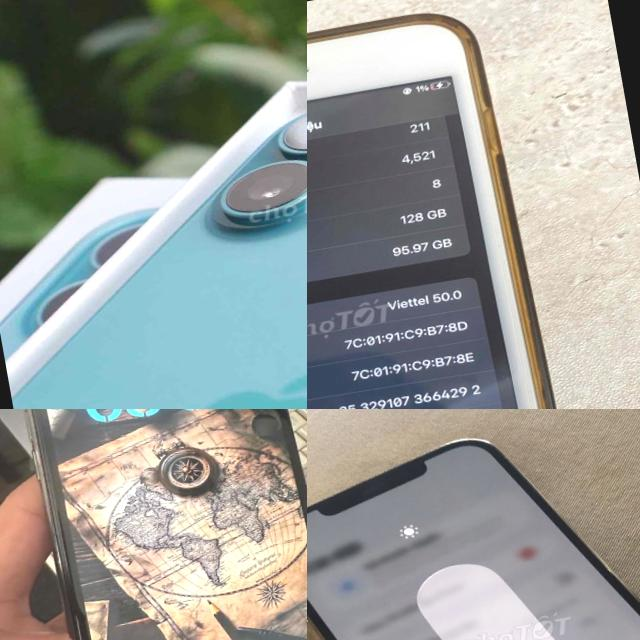gen_12_13: (307, 409, 640, 640)
gen_16: (0, 51, 307, 409)
gen_6: (307, 16, 552, 409)
gen_x_xs: (0, 409, 307, 640)
